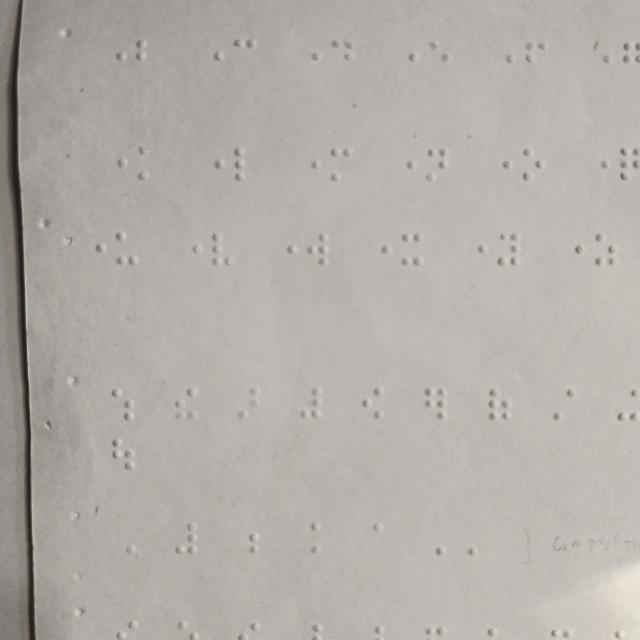capital_sign: (116, 521, 137, 554)
dot_5: (300, 41, 320, 74), (496, 42, 516, 75), (592, 41, 612, 74), (492, 148, 512, 181), (397, 148, 417, 181), (206, 148, 226, 181), (108, 147, 128, 180), (183, 234, 203, 267), (566, 234, 586, 267), (106, 39, 126, 71), (204, 39, 224, 71), (398, 41, 418, 73), (589, 149, 609, 181), (300, 149, 320, 181), (87, 232, 107, 264), (278, 235, 298, 267), (372, 234, 392, 266), (466, 234, 486, 266)
number_sign: (175, 521, 197, 555)
one_cell_non_alphabet_at: (298, 387, 319, 420)
one_cell_non_alphabet_ibig: (553, 388, 574, 422)
one_cell_part_word_an: (111, 388, 133, 421)
one_cell_part_word_ang: (175, 387, 197, 420)
one_cell_part_word_ar: (238, 387, 259, 421)
one_cell_part_word_at: (298, 387, 319, 420)
one_cell_part_word_aw: (361, 388, 382, 421)
one_cell_part_word_er: (424, 388, 446, 421)
one_cell_part_word_han: (489, 388, 511, 422)
one_cell_part_word_ibig: (553, 388, 574, 422)
one_cell_part_word_ing: (617, 388, 638, 421)
one_cell_part_word_tu: (113, 437, 134, 471)
two_cell_alphabet_ayaw: (498, 234, 518, 267)
two_cell_alphabet_binata: (136, 39, 156, 71)
two_cell_alphabet_buhay: (213, 234, 233, 266)
two_cell_alphabet_dalaga: (332, 40, 352, 73)
two_cell_alphabet_eksamen: (402, 234, 422, 266)
two_cell_alphabet_ewan: (429, 40, 449, 73)
two_cell_alphabet_gunita: (620, 41, 640, 74)
two_cell_alphabet_kailangan: (137, 147, 157, 179)
two_cell_alphabet_karaniwan: (234, 39, 254, 71)
two_cell_alphabet_kislap: (620, 147, 640, 180)
two_cell_alphabet_larawan: (234, 147, 254, 180)
two_cell_alphabet_mabuti: (332, 149, 352, 182)
two_cell_alphabet_noon: (426, 149, 446, 181)
two_cell_alphabet_opo: (523, 149, 543, 181)
two_cell_alphabet_papaano: (527, 41, 547, 73)
two_cell_alphabet_salita: (597, 234, 617, 267)
two_cell_alphabet_ugali: (116, 233, 139, 265)
two_cell_alphabet_wasto: (308, 233, 328, 265)
